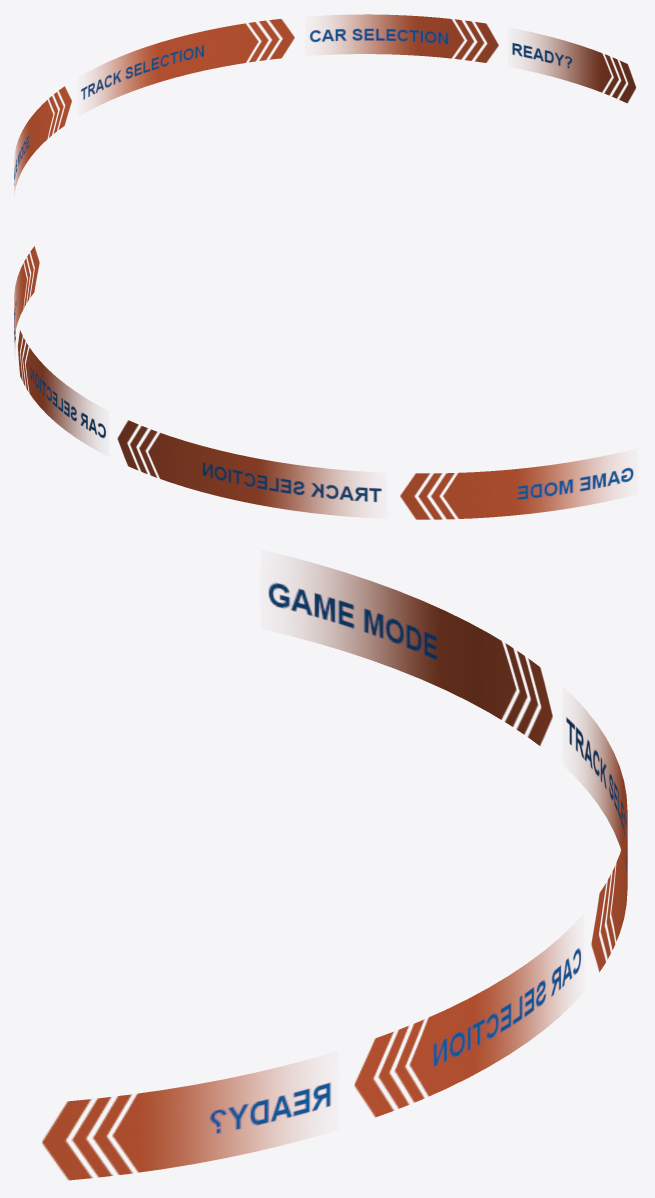
File: menuTitles.glb
3 renders of one model, top to bottom at view 1: azimuth 30°, elevation 25°; view 2: azimuth 150°, elevation 25°; view 3: azimuth 270°, elevation 25°, orthographic. The views are drawn at different scales.
Visible parts, largest first — view 1: menu_2_trackSelection, menu_3_carSelection, menu_4_ready, menu_1_gameMode; view 2: menu_2_trackSelection, menu_1_gameMode, menu_3_carSelection, menu_4_ready; view 3: menu_1_gameMode, menu_4_ready, menu_3_carSelection, menu_2_trackSelection.
Part boxes in pixels (x1,y1,x2,y2): menu_2_trackSelection: (81, 19, 294, 107); menu_3_carSelection: (310, 14, 498, 62); menu_4_ready: (512, 32, 636, 103); menu_1_gameMode: (14, 86, 71, 191); menu_2_trackSelection: (117, 420, 381, 516); menu_1_gameMode: (400, 455, 633, 519); menu_3_carSelection: (17, 330, 105, 446); menu_4_ready: (14, 246, 39, 346); menu_1_gameMode: (268, 561, 552, 745); menu_4_ready: (42, 1063, 331, 1180); menu_3_carSelection: (354, 934, 580, 1117); menu_2_trackSelection: (566, 707, 627, 972).
Bounding box in the file's own units: 13.55 × 0.8998 × 6.18.
1 material, 1 textured.
